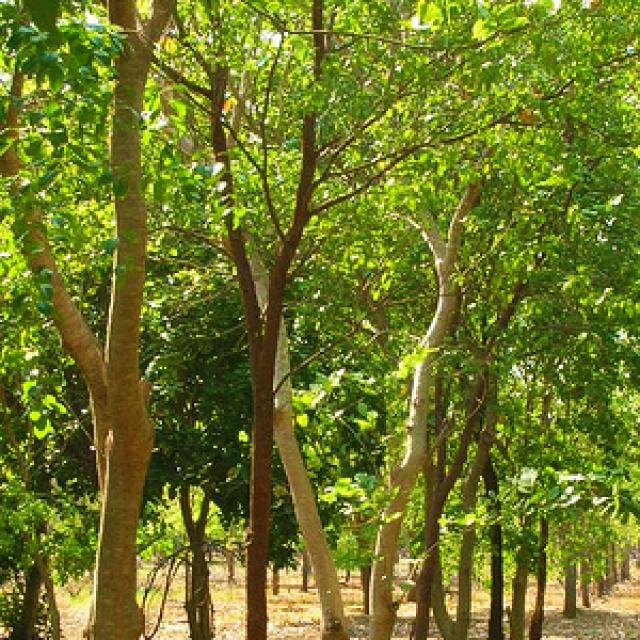Medicinal-Sandalwood: (171, 0, 361, 640), (0, 0, 187, 640), (363, 0, 527, 640), (527, 11, 640, 637)
